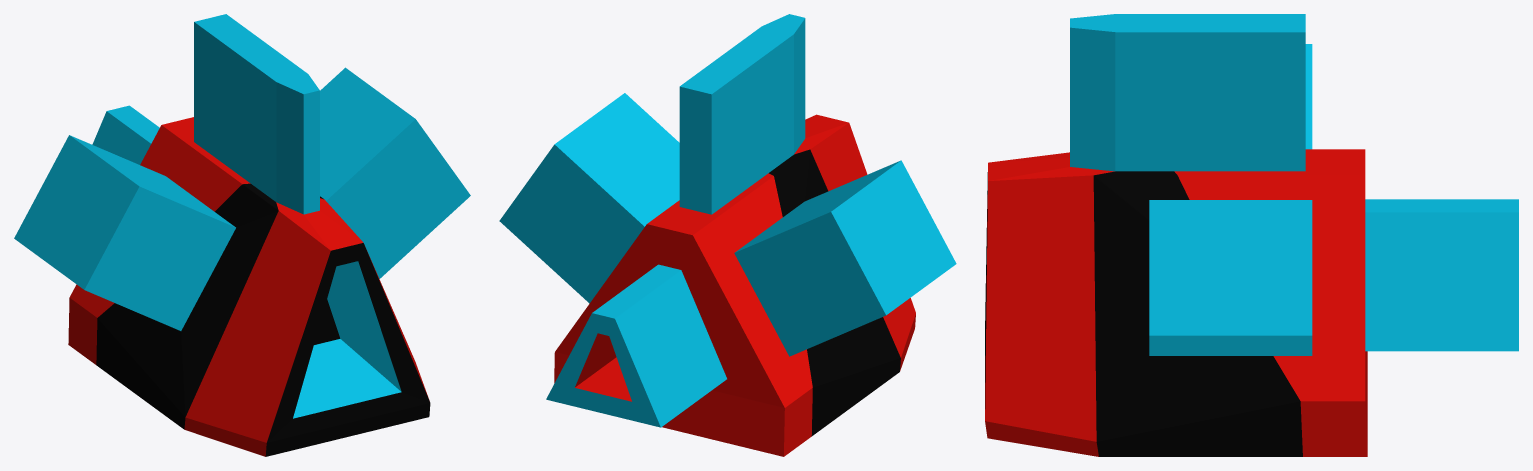
The model's file is barracks.fbx.
3 views of the same model, side by side, from view 1: azimuth 30°, elevation 25°; view 2: azimuth 150°, elevation 25°; view 3: azimuth 270°, elevation 25° (orthographic). The views are drawn at different scales.
Parts seen in each view (by area): view 1: Cube; view 2: Cube; view 3: Cube.
Part boxes in pixels (<box>): Cube: <box>14,14,470,456</box>; Cube: <box>499,14,956,456</box>; Cube: <box>985,14,1518,456</box>.
Size of the model in its own units: 336 by 265 by 347.
